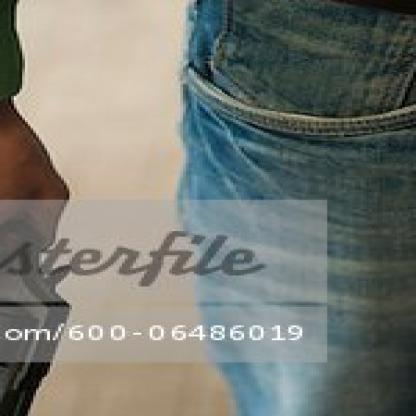gun: (0, 184, 81, 415)
